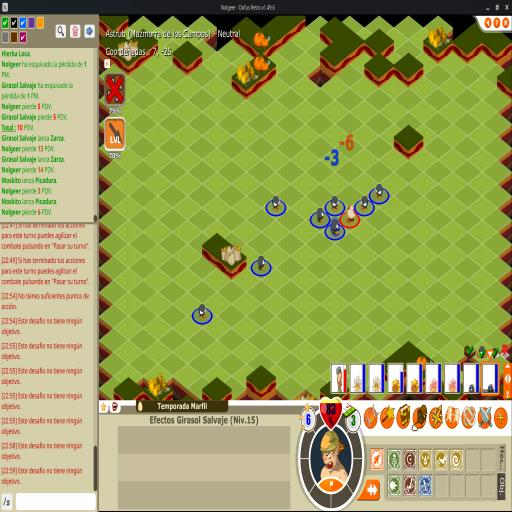Enemigos: (360, 195, 370, 212), (330, 195, 340, 212), (316, 207, 326, 224), (272, 195, 282, 212), (374, 184, 384, 200), (331, 219, 341, 235), (198, 304, 208, 320), (257, 255, 266, 271)
Personaje: (346, 204, 356, 224)
